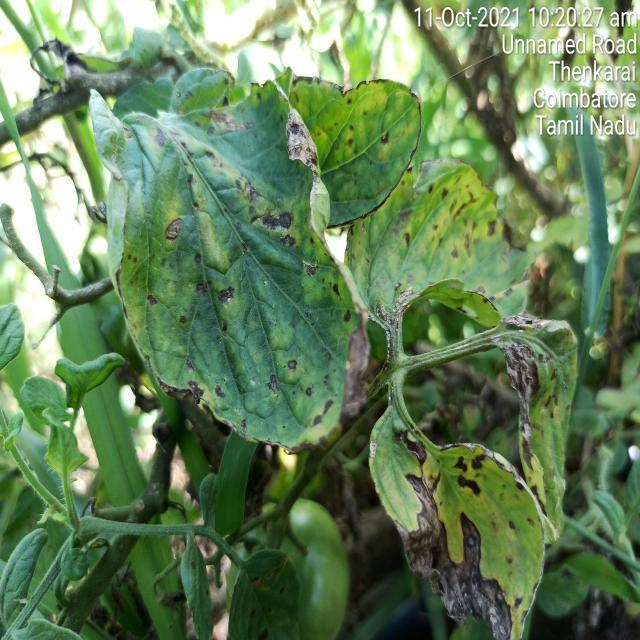Tomato mosaic virus leaf: (104, 80, 356, 452), (368, 414, 548, 638), (496, 306, 580, 538)
